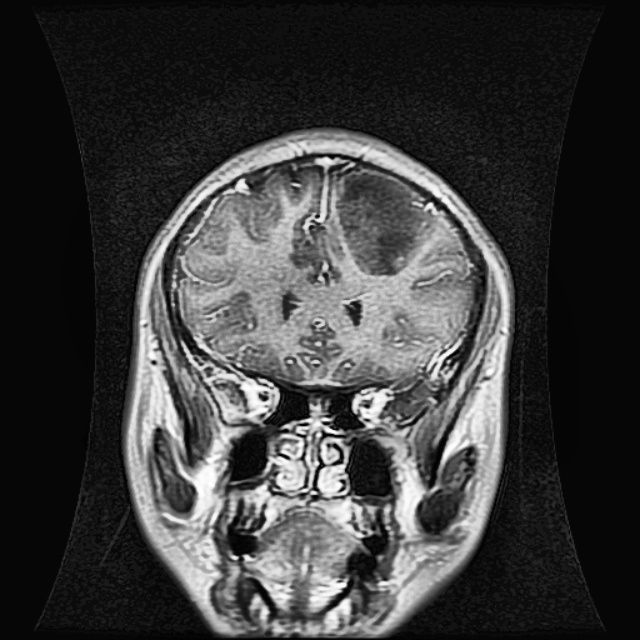Meningioma: (329, 169, 427, 277)
